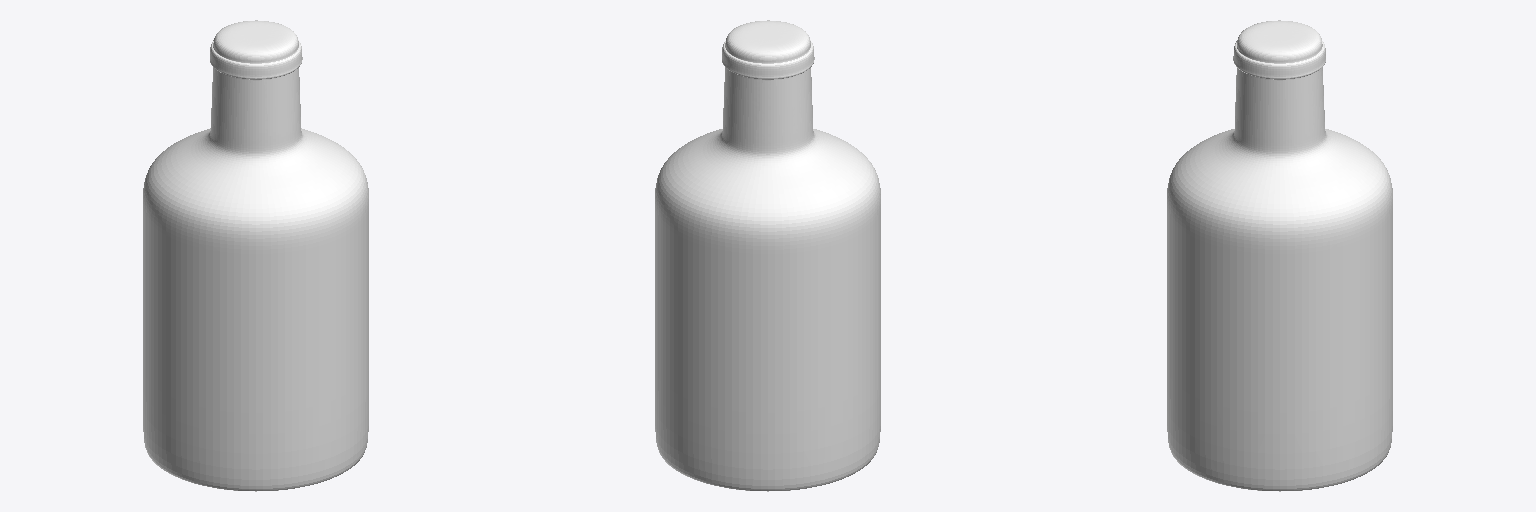
robot.urdf — target:
<?xml version="1.0" ?>
<!-- =================================================================================== -->
<!-- |    This document was autogenerated by xacro from target_cylinder.xacro          | -->
<!-- |    EDITING THIS FILE BY HAND IS NOT RECOMMENDED                                 | -->
<!-- =================================================================================== -->
<robot name="target" xmlns:xacro="http://www.ros.org/wiki/xacro">
  <link name="target">
    <contact>
      <lateral_friction value="1"/>
    </contact>
    <inertial>
      <origin rpy="0 0 0" xyz="0 0 0"/>
      <mass value="0.05"/>
      <!--<inertia ixx="${1/12*mass*(3*radius*radius+length*length)}" ixy="0" ixz="0"-->
      <!--iyy="${1/12*mass*(3*radius*radius+length*length)}" iyz="0"-->
      <!--izz="${1/2*mass*radius*radius}"/>-->
      <!--<inertia ixx="1e-20" ixy="0" ixz="0"-->
      <!--iyy="1e-20" iyz="0"-->
      <!--izz="${1/2*mass*radius*radius}"/>-->
      <inertia ixx="0.00145833333333" ixy="0" ixz="0" iyy="0.00145833333333" iyz="0" izz="0.00125"/>
    </inertial>
    <!--<visual>-->
        <!--<origin rpy="0 0 0" xyz="0 0 0"/>-->
        <!--<geometry>-->
            <!--<cylinder length="0.1" radius="0.05"/>-->
        <!--</geometry>-->
        <!--<material name="white">-->
            <!--<color rgba="1 1 1 1"/>-->
        <!--</material>-->
    <!--</visual>-->
      <collision>
          <origin rpy="0 0 0" xyz="0 0 0"/>
          <geometry>
              <cylinder length="0.1" radius="0.05"/>
          </geometry>
      </collision>
    <visual>
      <origin rpy="0 0 0" xyz="0 0 -0.06"/>
      <geometry>
        <mesh filename="meshes/bottle750/14042_750_mL_Wine_Bottle_r_v1_L3.obj" scale=".02 .02 .01"/>
      </geometry>
      <material name="black">
        <color rgba="1 1 1 1"/>
      </material>
    </visual>
    <!--<collision>-->
      <!--<origin rpy="0 0 0" xyz="0 0 -0.06"/>-->
      <!--<geometry>-->
        <!--<mesh filename="meshes/bottle750/14042_750_mL_Wine_Bottle_r_v1_L3.obj" scale=".02 .02 .01"/>-->
      <!--</geometry>-->
    <!--</collision>-->
  </link>
</robot>

--- Facts derived from the render (not from the file) ---
Views: 3 orthographic renders of the robot side by side, from view 1: azimuth 30°, elevation 25°; view 2: azimuth 150°, elevation 25°; view 3: azimuth 270°, elevation 25°.
Model target with 1 links and 0 joints (none), rooted at target, posed all joints at 0.
Visible links, largest first — view 1: target; view 2: target; view 3: target.
Link boxes in pixels (x1,y1,x2,y2): target: (143, 20, 368, 491); target: (655, 20, 880, 491); target: (1167, 20, 1392, 491).
Size in the robot's own frame: 0.1039 by 0.1039 by 0.2116 metres.
Meshes: 1 distinct files referenced, 1 mesh visuals loaded (1 OBJ).